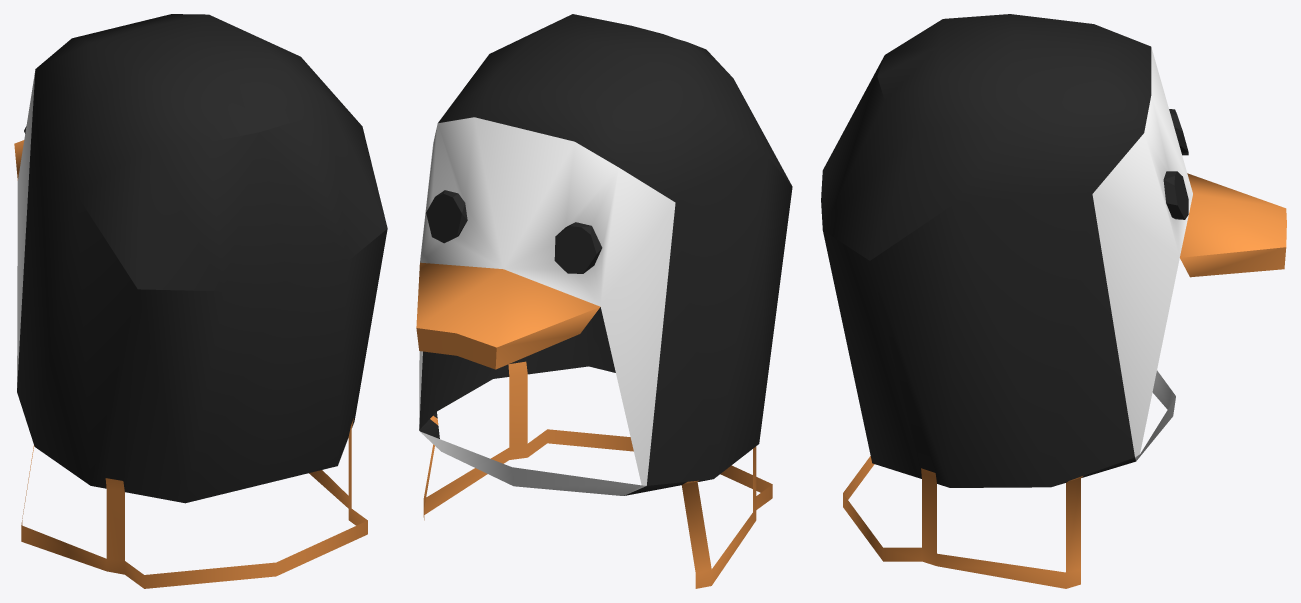
The model's file is BubbleHead.gltf.
3 views of the same model, side by side, from view 1: azimuth 30°, elevation 25°; view 2: azimuth 150°, elevation 25°; view 3: azimuth 270°, elevation 25° (orthographic).
Parts seen in each view (by area): view 1: BUBBLEHEAD; view 2: BUBBLEHEAD; view 3: BUBBLEHEAD.
Part boxes in pixels (box(x1,y1,x2,y2)): BUBBLEHEAD: box(14, 14, 387, 588); BUBBLEHEAD: box(416, 14, 792, 588); BUBBLEHEAD: box(821, 14, 1286, 588).
Size of the model in its own units: 0.4035 by 0.6546 by 0.5706.
Materials: 1 (1 with a texture image).
